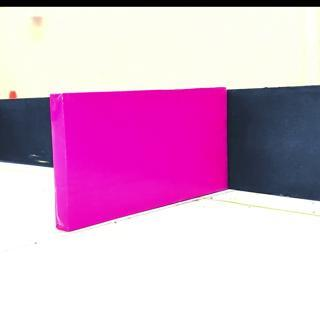xparking: (53, 93, 230, 213)
